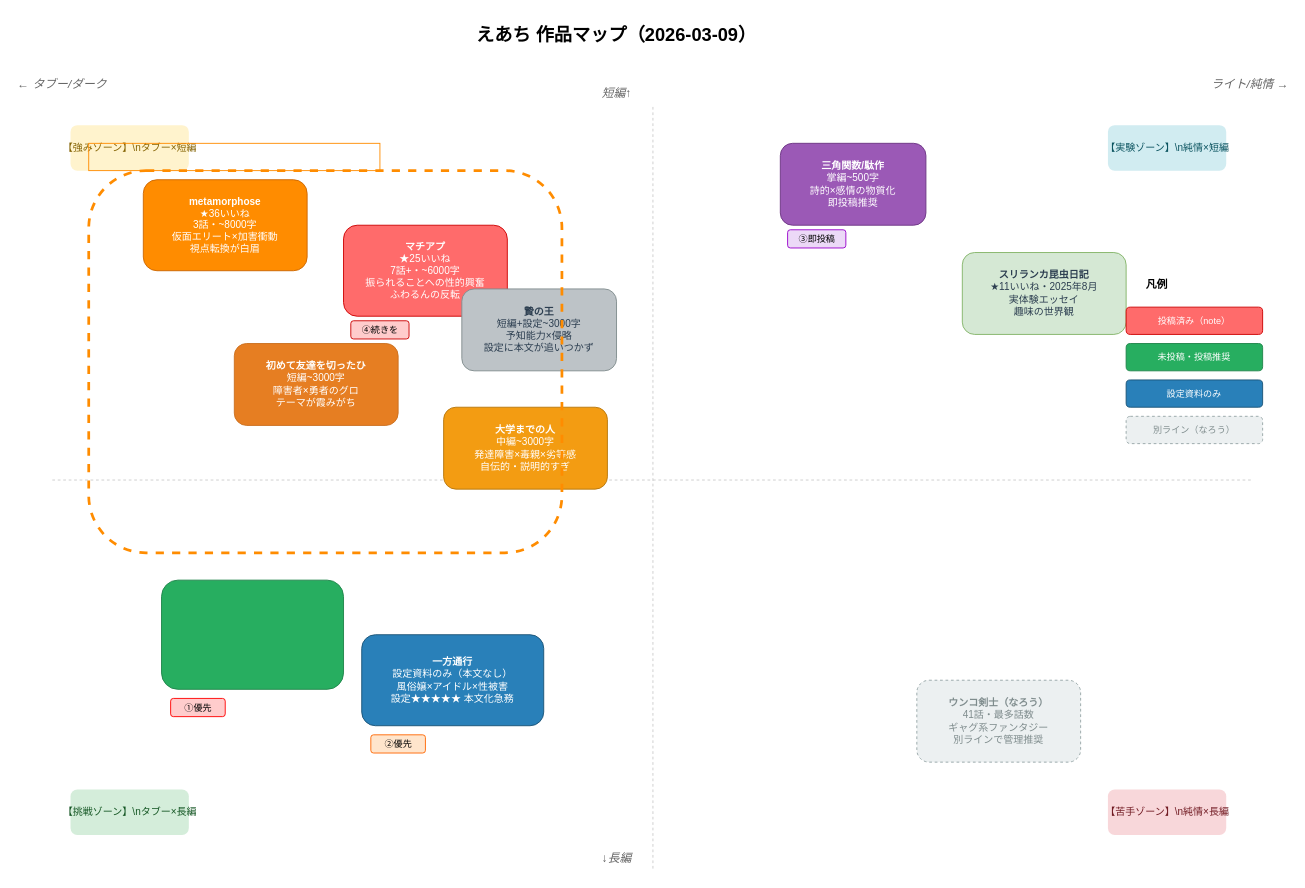
This 1305x888 diagram has some shape labels left out. Each missing label, with the box of its shape:
★ スイートスポット（最大の強み）: (88, 142, 380, 171)
神戸を出る 長編~25000字（未完） エリート×貧困不良の逃避行 神戸の格差リアル描写 ★★★★☆ 分割投稿で化ける: (161, 579, 344, 689)
